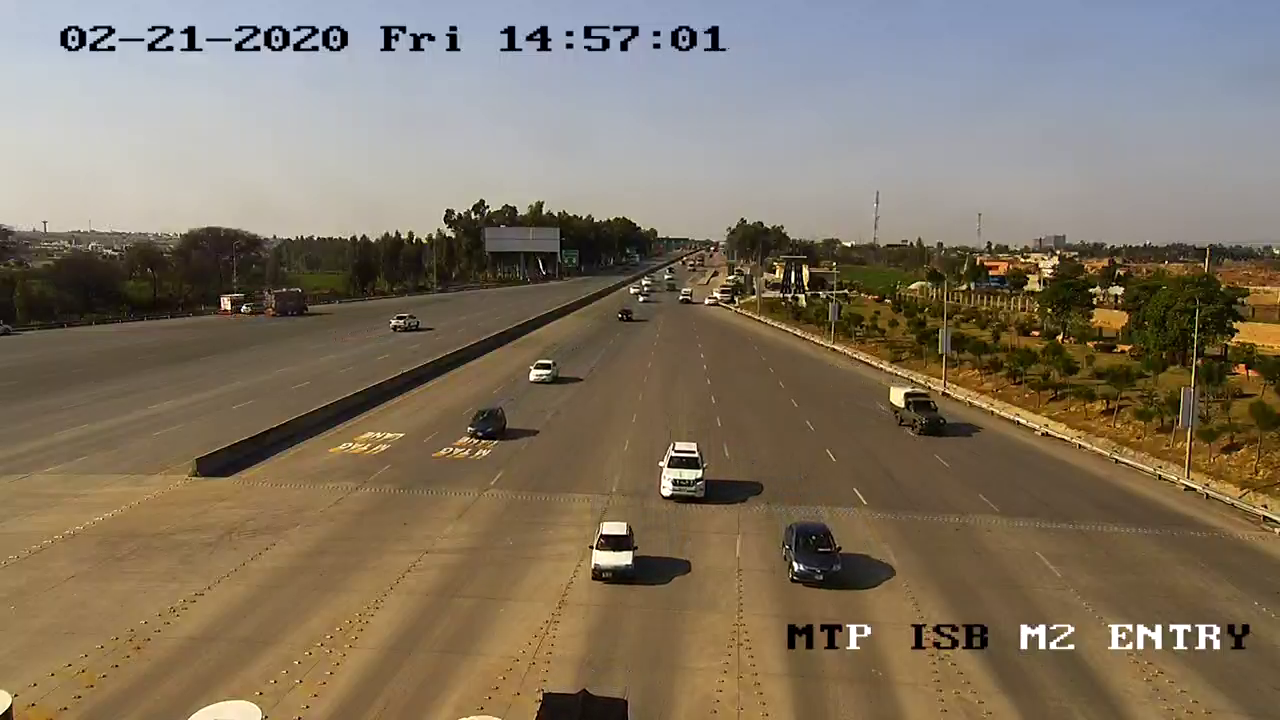f1: (767, 512, 856, 598), (579, 512, 645, 597), (651, 432, 715, 508)
